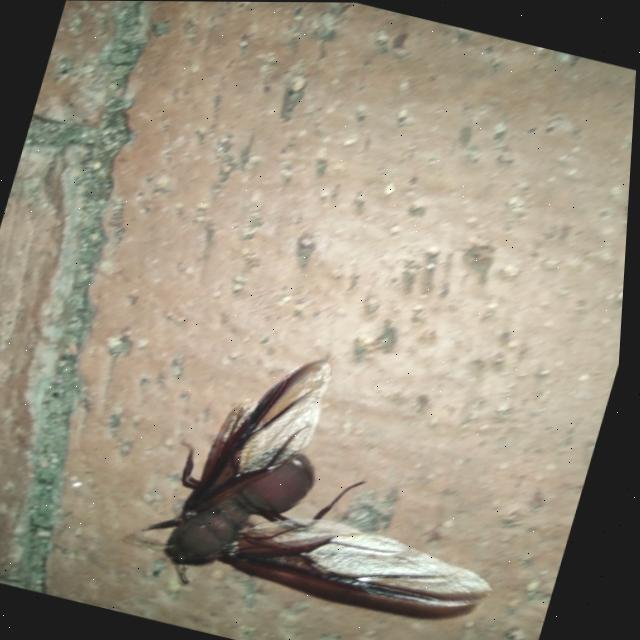Alive-Female-Alate: (129, 326, 554, 640)
